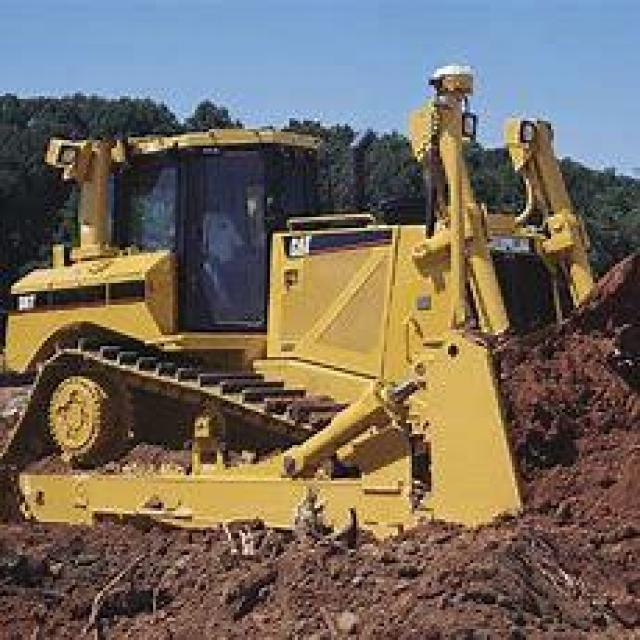Bulldozer: (3, 63, 637, 574)
